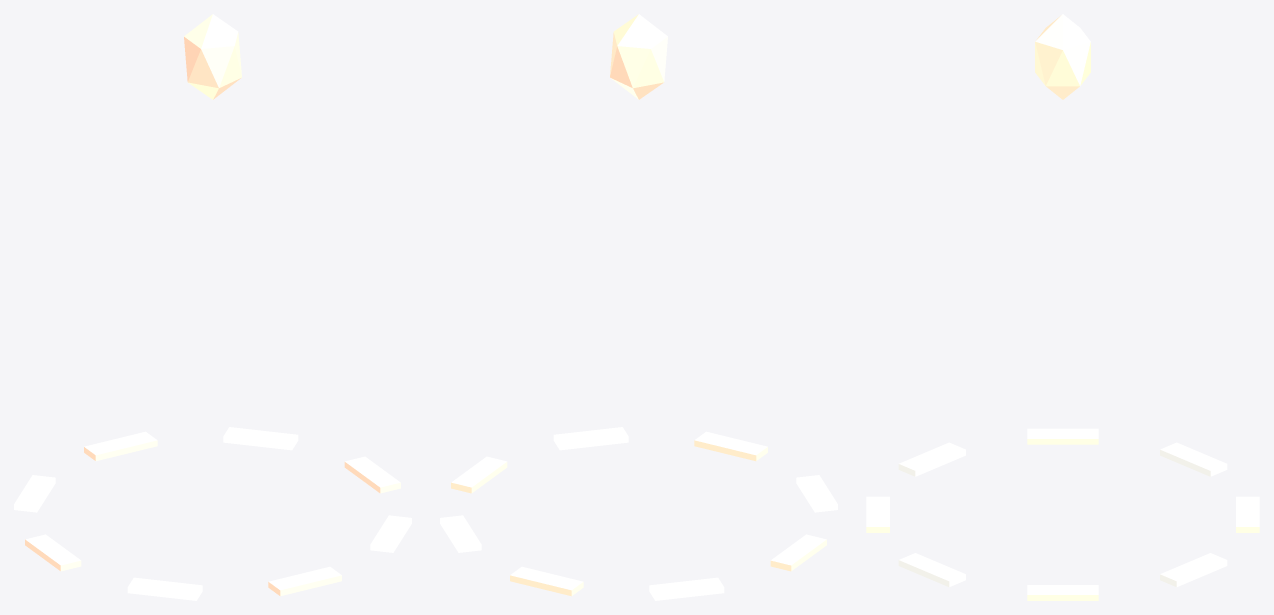
The picture shows the model from 3 angles, left to right: view 1: azimuth 30°, elevation 25°; view 2: azimuth 150°, elevation 25°; view 3: azimuth 270°, elevation 25°; orthographic projection.
Visible parts, largest first — view 1: UnriggedDiamond, Cube.005, Cube.001, Cube.002, Cube.006, Cube, Cube.004, Cube.003, Cube.007; view 2: UnriggedDiamond, Cube.003, Cube.007, Cube.006, Cube.002, Cube, Cube.004, Cube.001, Cube.005; view 3: UnriggedDiamond, Cube.004, Cube.001, Cube.007, Cube.003, Cube.005, Cube, Cube.002, Cube.006.
Part boxes in pixels (<box>): UnriggedDiamond: <box>184,14,241,99</box>; Cube.005: <box>127,577,202,600</box>; Cube.001: <box>223,427,298,450</box>; Cube.002: <box>84,431,157,461</box>; Cube.006: <box>268,566,341,596</box>; Cube: <box>344,456,400,493</box>; Cube.004: <box>25,534,81,571</box>; Cube.003: <box>14,475,55,512</box>; Cube.007: <box>370,515,411,552</box>; UnriggedDiamond: <box>610,14,667,99</box>; Cube.003: <box>649,577,724,600</box>; Cube.007: <box>553,427,628,450</box>; Cube.006: <box>694,431,767,461</box>; Cube.002: <box>510,566,583,596</box>; Cube: <box>451,456,507,493</box>; Cube.004: <box>770,534,826,571</box>; Cube.001: <box>440,515,481,552</box>; Cube.005: <box>796,475,837,512</box>; UnriggedDiamond: <box>1035,14,1090,99</box>; Cube.004: <box>1027,428,1098,444</box>; Cube.001: <box>1160,553,1227,587</box>; Cube.007: <box>898,553,965,587</box>; Cube.003: <box>1160,442,1227,476</box>; Cube.005: <box>898,442,965,476</box>; Cube: <box>1027,585,1098,600</box>; Cube.002: <box>1236,496,1259,532</box>; Cube.006: <box>866,496,889,532</box>.
Size of the model in its own units: 1.32 by 1.87 by 1.32.
